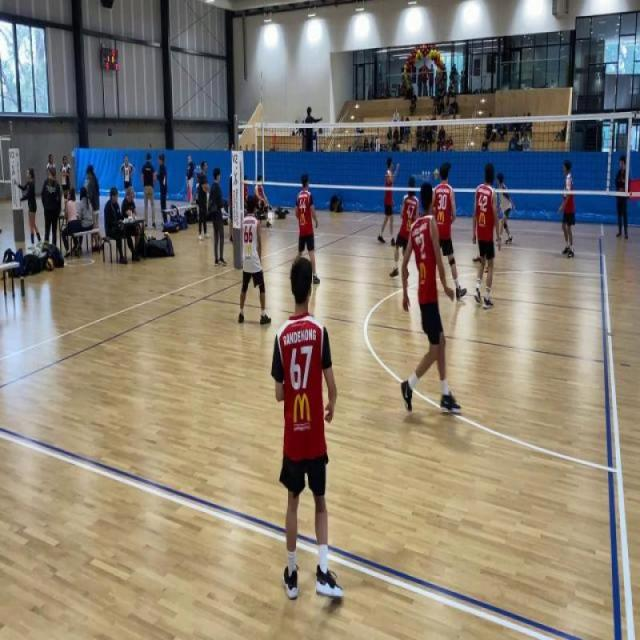volleyball: (432, 168, 440, 180), (46, 258, 54, 270), (163, 231, 170, 238), (148, 234, 152, 240)
